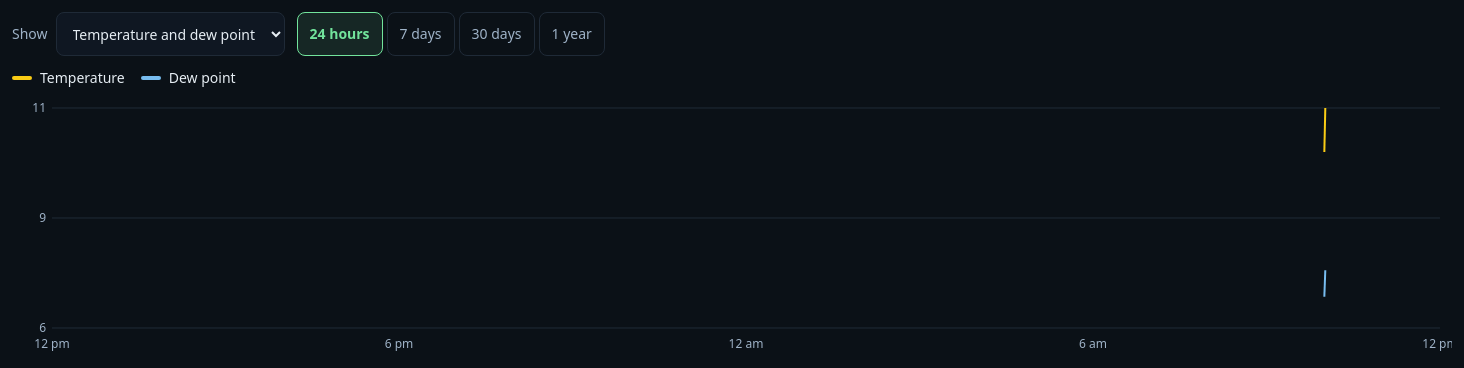
Test: WeatherChartPanel.svelte › says so when the series request fails
Click the button "1 year" at (572, 34), box x1=538 y1=12 x2=605 y2=56
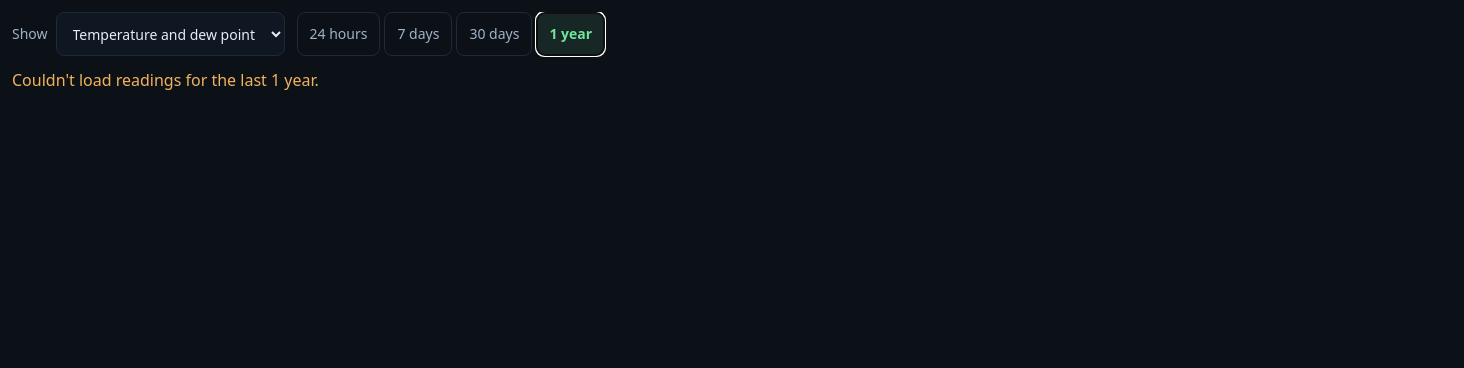
Now the message reads "Couldn't load readings for the last 1 year.", box x1=12 y1=69 x2=319 y2=91
